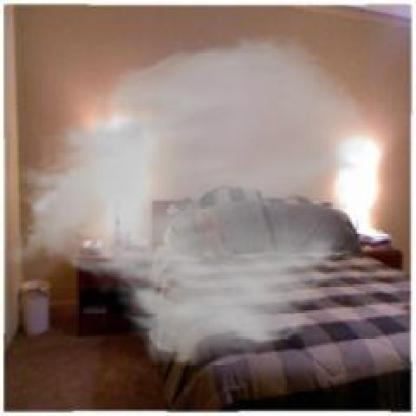Smoke: (6, 31, 372, 369)
